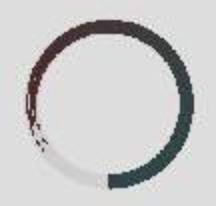ProgressBar: (1, 1, 215, 205)
